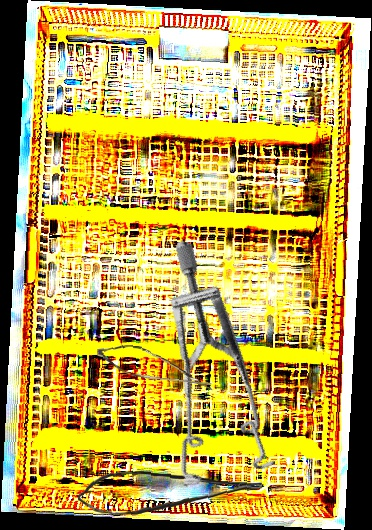Micro Scissor: (77, 466, 263, 525), (94, 341, 217, 391)
Speculum: (93, 238, 340, 515)
